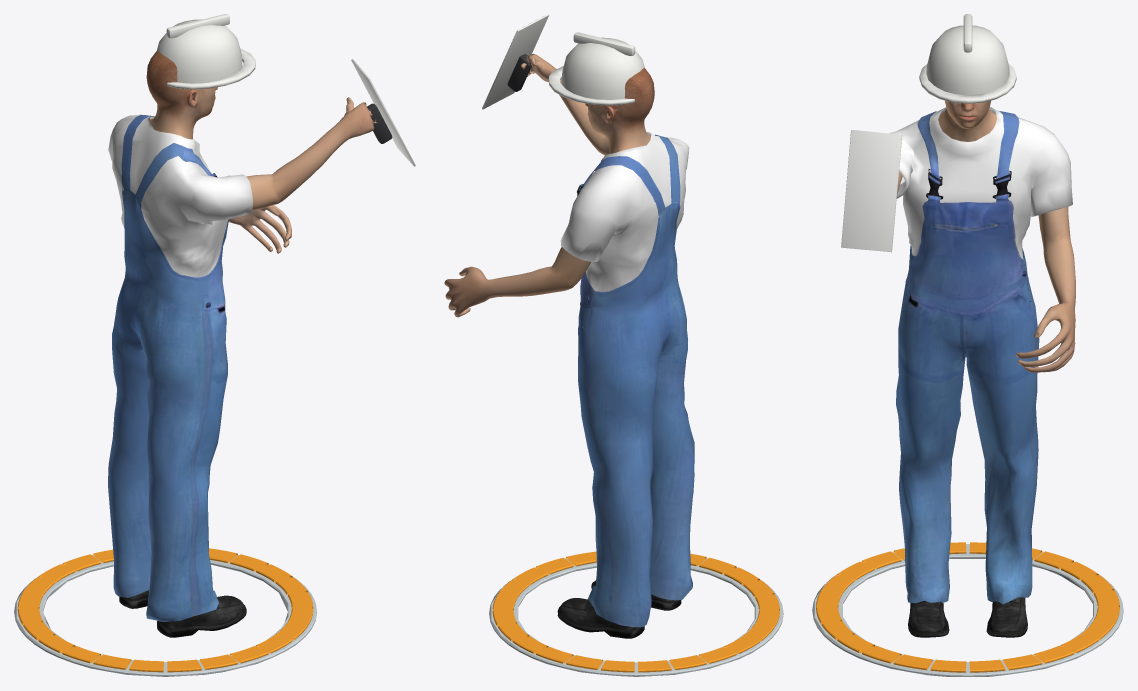
File: MDO-OBR-007_lod1.glb
The picture shows the model from 3 angles, left to right: view 1: azimuth 30°, elevation 25°; view 2: azimuth 150°, elevation 25°; view 3: azimuth 270°, elevation 25°; orthographic projection. The views are drawn at different scales.
Visible parts, largest first — view 1: MDO-OBR-007_pessoa_male_worksuit01, MDO-OBR-007_pessoa, MDO-OBR-007_capacete, MDO-OBR-007_anel_fundo, MDO-OBR-007_pessoa_shoes04, MDO-OBR-007_ferD_chapa, MDO-OBR-007_capacete_aba, MDO-OBR-007_capacete_friso; view 2: MDO-OBR-007_pessoa_male_worksuit01, MDO-OBR-007_pessoa, MDO-OBR-007_capacete, MDO-OBR-007_anel_fundo, MDO-OBR-007_pessoa_shoes04, MDO-OBR-007_ferD_chapa, MDO-OBR-007_capacete_aba, MDO-OBR-007_capacete_friso, MDO-OBR-007_ferD_cabo; view 3: MDO-OBR-007_pessoa_male_worksuit01, MDO-OBR-007_pessoa, MDO-OBR-007_ferD_chapa, MDO-OBR-007_capacete, MDO-OBR-007_anel_fundo, MDO-OBR-007_pessoa_shoes04, MDO-OBR-007_capacete_aba.
Part boxes in pixels (x1,y1,x2,y2): MDO-OBR-007_pessoa_male_worksuit01: [108, 114, 252, 621]; MDO-OBR-007_pessoa: [146, 50, 377, 253]; MDO-OBR-007_capacete: [156, 19, 242, 83]; MDO-OBR-007_anel_fundo: [14, 555, 316, 676]; MDO-OBR-007_pessoa_shoes04: [119, 590, 246, 637]; MDO-OBR-007_ferD_chapa: [351, 59, 415, 166]; MDO-OBR-007_capacete_aba: [167, 48, 255, 89]; MDO-OBR-007_capacete_friso: [166, 14, 229, 38]; MDO-OBR-007_pessoa_male_worksuit01: [560, 132, 694, 627]; MDO-OBR-007_pessoa: [444, 53, 654, 317]; MDO-OBR-007_capacete: [561, 37, 644, 99]; MDO-OBR-007_anel_fundo: [489, 558, 783, 676]; MDO-OBR-007_pessoa_shoes04: [557, 579, 681, 638]; MDO-OBR-007_ferD_chapa: [482, 14, 549, 109]; MDO-OBR-007_capacete_aba: [548, 66, 634, 105]; MDO-OBR-007_capacete_friso: [573, 32, 635, 56]; MDO-OBR-007_ferD_cabo: [507, 54, 531, 91]; MDO-OBR-007_pessoa_male_worksuit01: [889, 107, 1072, 604]; MDO-OBR-007_pessoa: [897, 100, 1075, 372]; MDO-OBR-007_ferD_chapa: [841, 130, 902, 252]; MDO-OBR-007_capacete: [926, 25, 1009, 95]; MDO-OBR-007_anel_fundo: [812, 544, 1123, 676]; MDO-OBR-007_pessoa_shoes04: [908, 597, 1027, 637]; MDO-OBR-007_capacete_aba: [919, 63, 1016, 103].
Size of the model in its own units: 1.05 by 1.79 by 0.84.
Materials: 10 (5 with a texture image).
